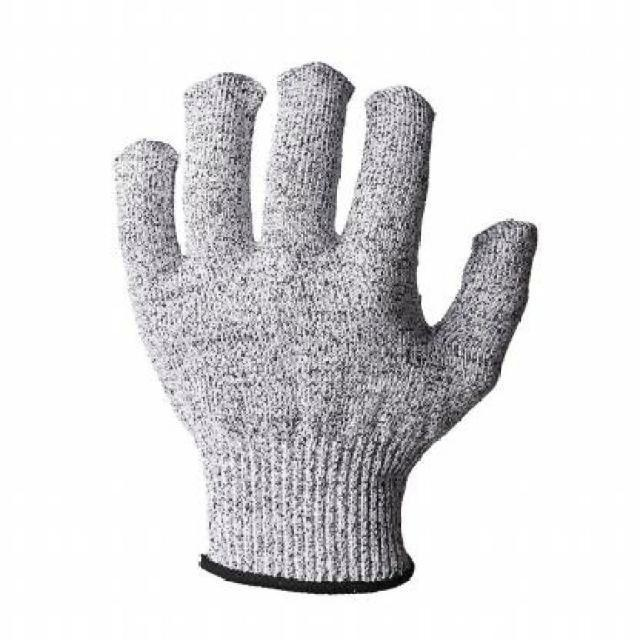Guantes: (111, 60, 538, 594)
